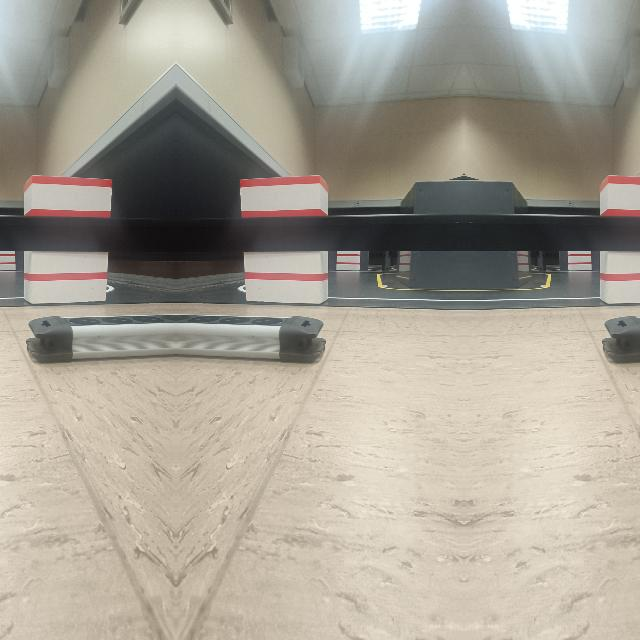obstacle: (176, 314, 326, 364), (24, 314, 174, 364), (601, 314, 640, 363)
